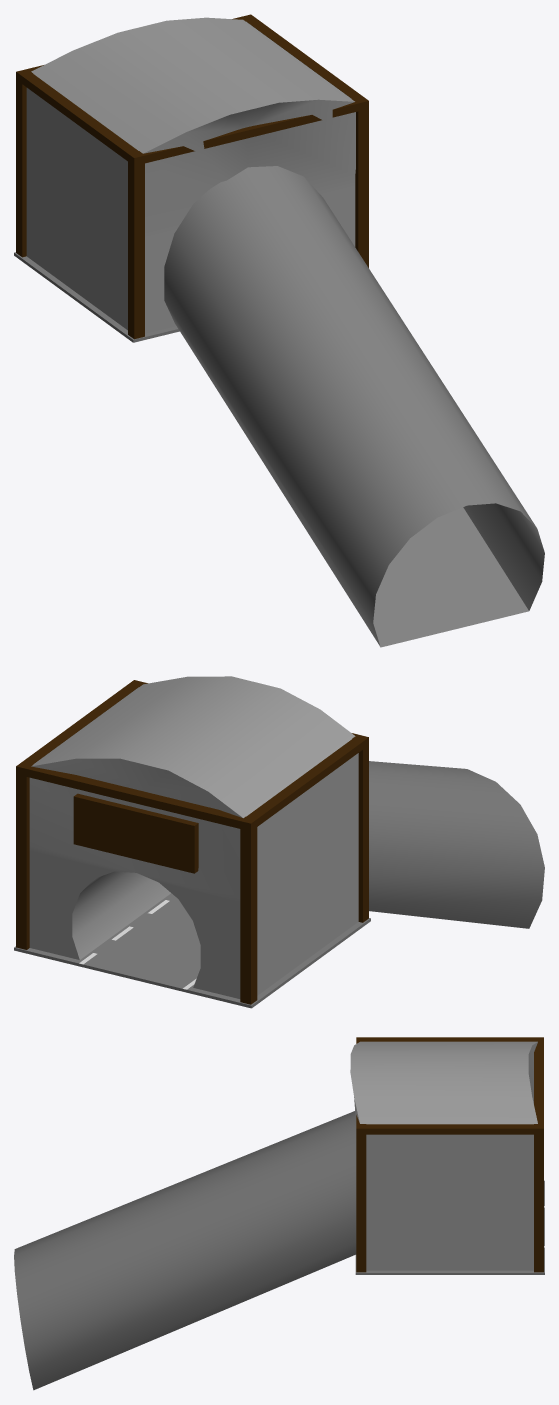
The model's file is Underpass.fbx.
3 views of the same model, one above another, from view 1: azimuth 30°, elevation 25°; view 2: azimuth 150°, elevation 25°; view 3: azimuth 270°, elevation 25° (orthographic). The views are drawn at different scales.
Parts seen in each view (by area): view 1: Underpass; view 2: Underpass; view 3: Underpass.
Boxes of the visible parts, <box> form: Underpass: <box>14,14,544,647</box>; Underpass: <box>14,676,544,1008</box>; Underpass: <box>14,1037,544,1390</box>.
Bounding box in the file's own units: 1042 × 1570 × 2540.
